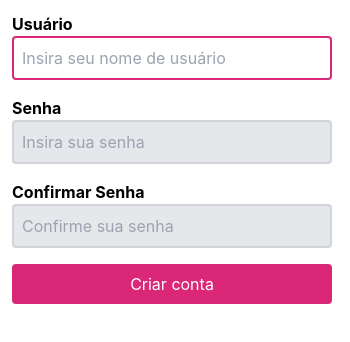
Test: <SignUpForm /> › should return error when password and password confirm values are different
Type "usertest" into the field labelled "Usuário".
click(172, 58); type("usertest")  # box [12,36,332,80]
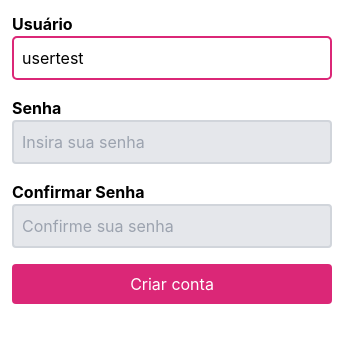
Type "1234" into the password field labelled "Senha".
click(172, 142); type("1234")  # box [12,120,332,164]
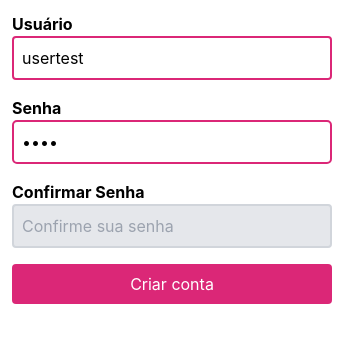
Type "123" into the password field labelled "Confirmar Senha".
click(172, 226); type("123")  # box [12,204,332,248]
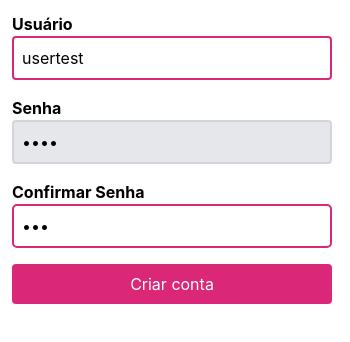
Click the button "Criar conta".
click(172, 284)  # box [12,264,332,304]
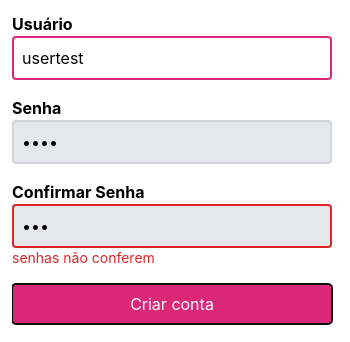
Expected: the text "senhas não conferem" is shown, [12,249,155,266]
